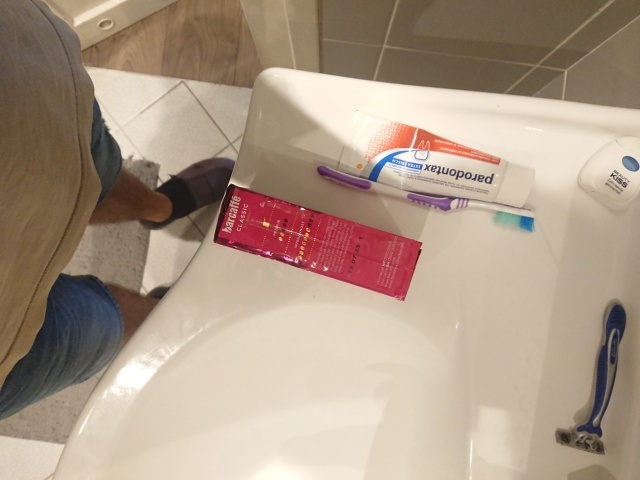Barcaffe Classic Original 225g: (212, 182, 425, 303)
